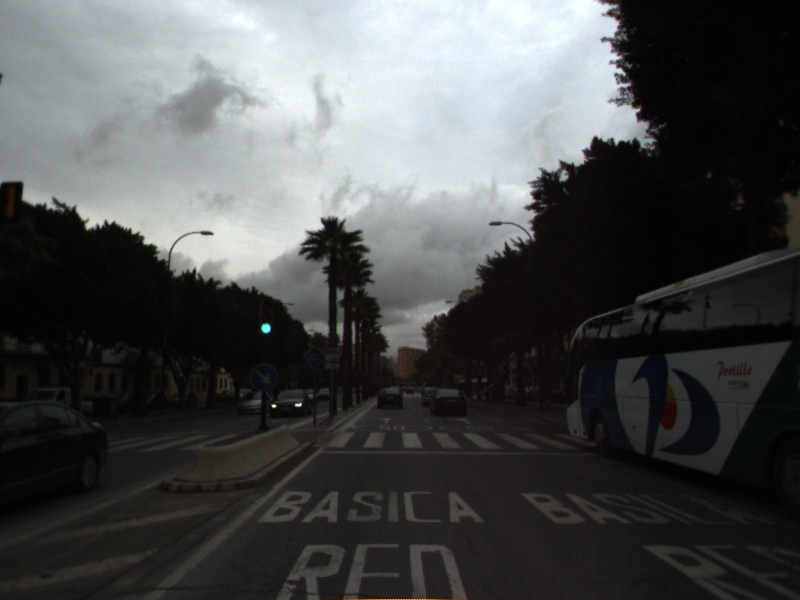STRAIGHT: (453, 415, 474, 427), (378, 415, 395, 426)
